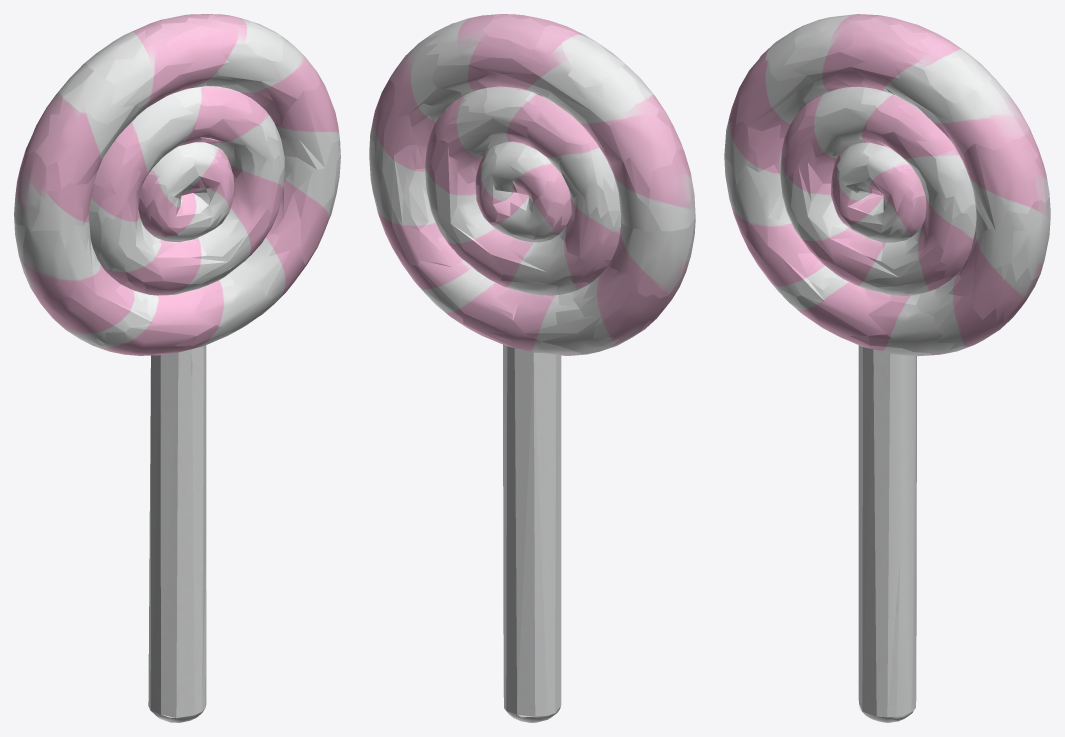
The model's file is prop.glb.
The picture shows the model from 3 angles, left to right: view 1: azimuth 30°, elevation 25°; view 2: azimuth 150°, elevation 25°; view 3: azimuth 330°, elevation 25°; orthographic projection.
Bounding box in the file's own units: 0.9009 × 1.9 × 0.1957.
Materials: 1 (1 with a texture image).
